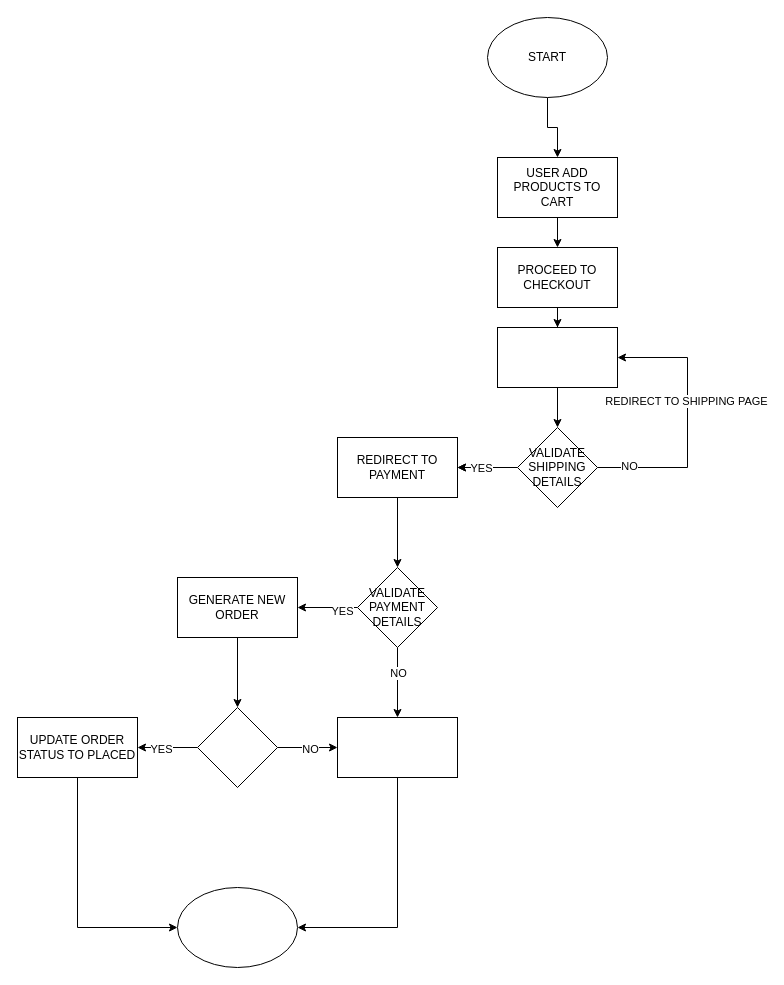
The diagram is 784 pixels wide and 985 high, and some of its shapes have lost their labels. The shapes that lost their labels are listed below. From the top down, each one's centre as x and y in pixels, then its label:
pixel 557 357: ENTER SHIPPING DETAILS
pixel 237 747: CONFIRM ORDER
pixel 397 747: UPDATE ORDER STATUS TO CANCELLED
pixel 237 927: END
